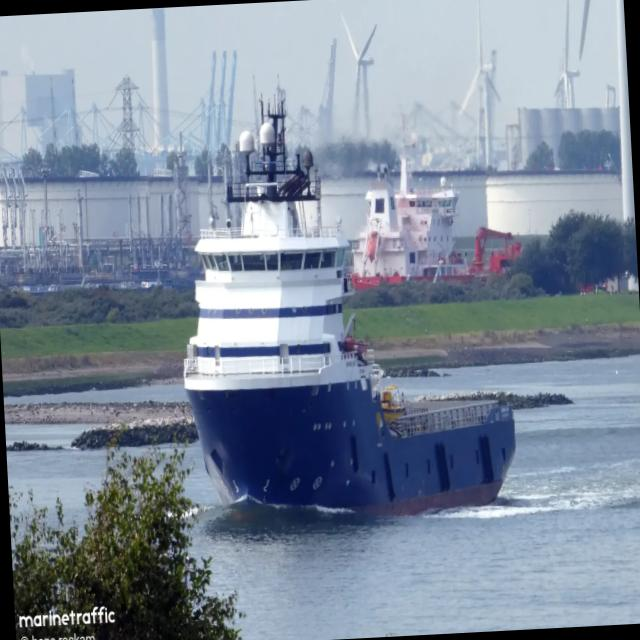Offshore: (184, 89, 515, 514)
